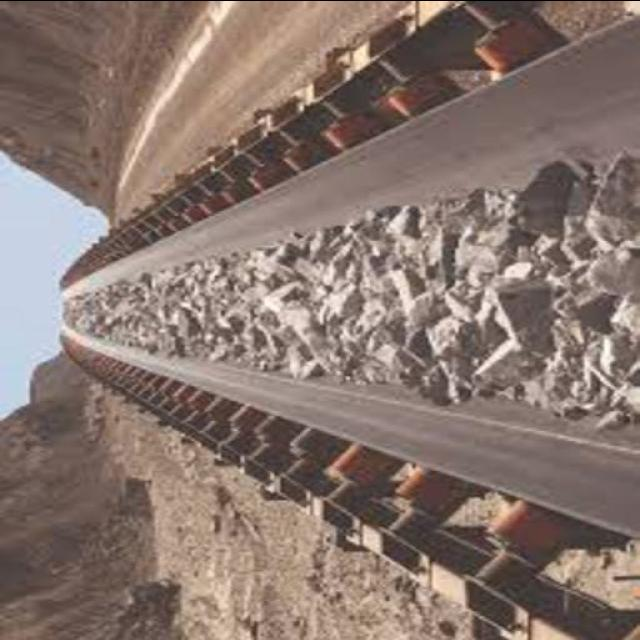conveyor: (59, 11, 640, 534)
